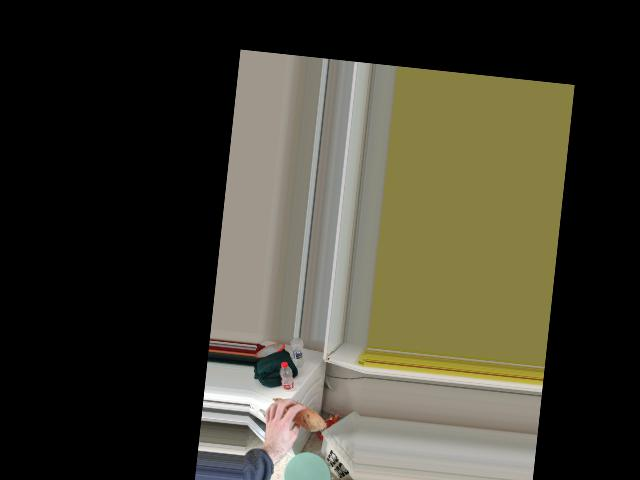sweet_potato: (268, 397, 323, 427)
